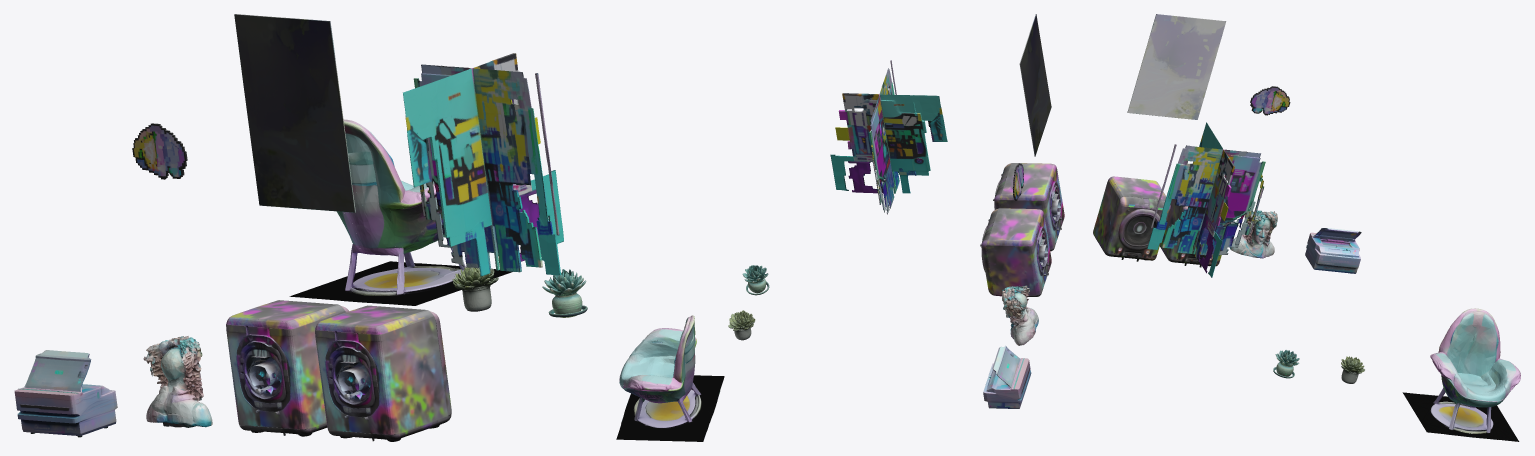
File: gallery-sage-2bf65388-web.glb
The picture shows the model from 3 angles, left to right: view 1: azimuth 30°, elevation 25°; view 2: azimuth 150°, elevation 25°; view 3: azimuth 270°, elevation 25°; orthographic projection. The views are drawn at different scales.
Parts seen in each view (by area): view 1: instance_7, instance_8, instance_4, instance_1, instance_3, instance_2, instance_0, instance_6, instance_5, instance_9; view 2: instance_7, instance_1, instance_3, instance_4, instance_8, instance_2, instance_0, instance_5, instance_9; view 3: instance_7, instance_1, instance_8, instance_4, instance_2, instance_0, instance_3, instance_6, instance_5, instance_9.
Part boxes in pixels (left/top/right/bottom): instance_7: left=403, top=53, right=563, bottom=276; instance_8: left=234, top=14, right=355, bottom=212; instance_4: left=315, top=305, right=451, bottom=441; instance_1: left=289, top=119, right=512, bottom=305; instance_3: left=226, top=300, right=348, bottom=436; instance_2: left=14, top=350, right=117, bottom=437; instance_0: left=143, top=336, right=212, bottom=427; instance_6: left=132, top=123, right=187, bottom=179; instance_5: left=542, top=269, right=587, bottom=317; instance_9: left=452, top=266, right=498, bottom=311; instance_7: left=830, top=60, right=947, bottom=214; instance_1: left=616, top=315, right=724, bottom=441; instance_3: left=980, top=208, right=1051, bottom=296; instance_4: left=993, top=163, right=1064, bottom=251; instance_8: left=1019, top=14, right=1051, bottom=156; instance_2: left=983, top=345, right=1031, bottom=408; instance_0: left=1002, top=285, right=1038, bottom=345; instance_5: left=742, top=265, right=769, bottom=295; instance_9: left=728, top=310, right=755, bottom=340; instance_7: left=1147, top=122, right=1265, bottom=277; instance_1: left=1402, top=308, right=1520, bottom=441; instance_8: left=1127, top=14, right=1226, bottom=119; instance_4: left=1093, top=176, right=1170, bottom=261; instance_2: left=1305, top=228, right=1361, bottom=273; instance_0: left=1229, top=210, right=1277, bottom=258; instance_3: left=1160, top=199, right=1230, bottom=267; instance_6: left=1250, top=86, right=1290, bottom=115; instance_5: left=1273, top=350, right=1299, bottom=378; instance_9: left=1341, top=356, right=1364, bottom=383.
Size of the model in its own units: 1.87 by 1.78 by 2.13.
10 materials, 10 textured.
